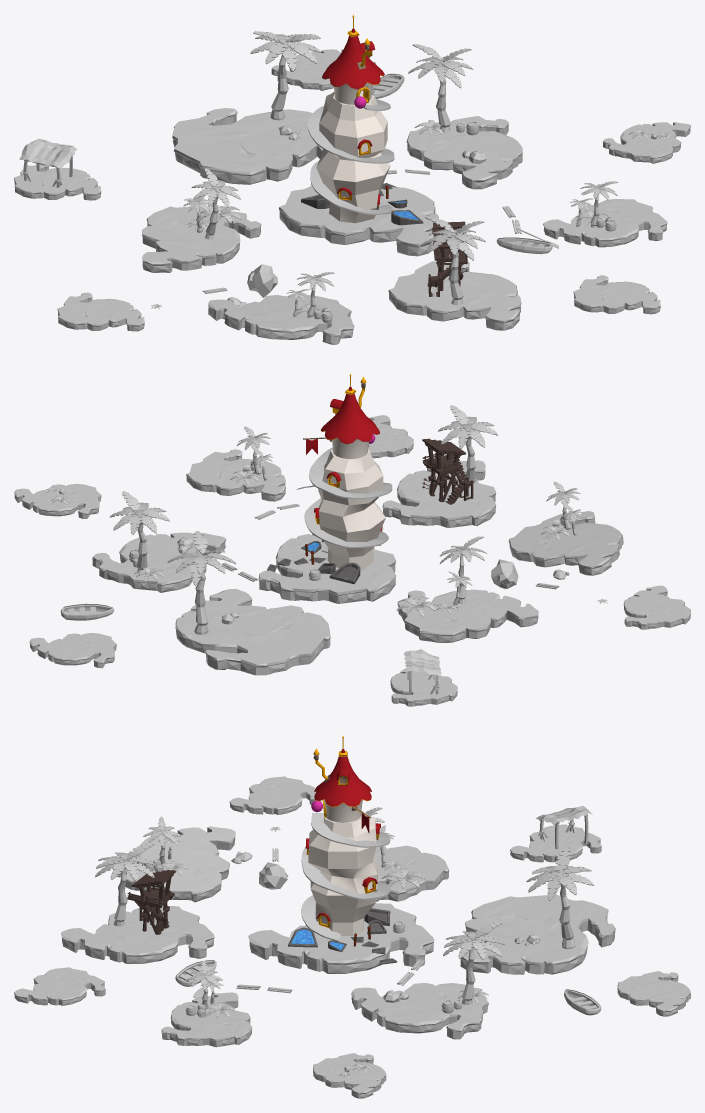
The model's file is towerlevel.fbx.
3 renders of one model, top to bottom at view 1: azimuth 30°, elevation 25°; view 2: azimuth 150°, elevation 25°; view 3: azimuth 270°, elevation 25°, orthographic. The views are drawn at different scales.
Visible parts, largest first — view 1: islands, pasted__Leaf.045, pCube1, Low_poly_Island_usdz:Mesh, Potion_Shop_Tower_usdz:Mesh, polySurface6, pasted__Hut, pasted__Oar.001, pasted__Sand.004, pasted__Bush.011, Cube.007_low, pasted__Barrel.006; view 2: islands, pasted__Leaf.045, pCube1, Low_poly_Island_usdz:Mesh, Potion_Shop_Tower_usdz:Mesh, Cube.007_low, polySurface6, pasted__Bush.011, pasted__Sand.004, pasted__Hut, pasted__Oar.001; view 3: islands, pasted__Leaf.045, pCube1, Low_poly_Island_usdz:Mesh, Potion_Shop_Tower_usdz:Mesh, polySurface6, Cube.007_low, pasted__Bush.011, pasted__Sand.004, pasted__Oar.001, pasted__Hut, pasted__Barrel.006.
Boxes of the visible parts, <box> form: islands: <box>14,49,690,344</box>; pasted__Leaf.045: <box>183,31,618,318</box>; pCube1: <box>316,90,390,223</box>; Low_poly_Island_usdz:Mesh: <box>388,261,521,330</box>; Potion_Shop_Tower_usdz:Mesh: <box>322,14,384,104</box>; polySurface6: <box>307,99,394,214</box>; pasted__Hut: <box>19,138,77,187</box>; pasted__Oar.001: <box>372,73,558,254</box>; pasted__Sand.004: <box>227,125,657,307</box>; pasted__Bush.011: <box>151,120,672,317</box>; Cube.007_low: <box>427,221,467,296</box>; pasted__Barrel.006: <box>313,121,616,322</box>; islands: <box>14,415,690,706</box>; pasted__Leaf.045: <box>110,405,582,634</box>; pCube1: <box>318,449,385,569</box>; Low_poly_Island_usdz:Mesh: <box>382,460,496,527</box>; Potion_Shop_Tower_usdz:Mesh: <box>303,373,380,458</box>; Cube.007_low: <box>422,438,473,504</box>; polySurface6: <box>304,447,392,553</box>; pasted__Bush.011: <box>46,470,607,617</box>; pasted__Sand.004: <box>59,489,569,624</box>; pasted__Hut: <box>403,649,441,694</box>; pasted__Oar.001: <box>60,485,314,620</box>; islands: <box>14,776,690,1098</box>; pasted__Leaf.045: <box>95,807,593,1010</box>; pCube1: <box>308,812,377,935</box>; Low_poly_Island_usdz:Mesh: <box>61,905,214,963</box>; Potion_Shop_Tower_usdz:Mesh: <box>313,735,371,832</box>; polySurface6: <box>301,813,390,941</box>; Cube.007_low: <box>127,870,175,934</box>; pasted__Bush.011: <box>161,827,488,1078</box>; pasted__Sand.004: <box>231,851,539,1072</box>; pasted__Oar.001: <box>175,960,601,1015</box>; pasted__Hut: <box>535,805,592,849</box>; pasted__Barrel.006: <box>143,859,462,1017</box>.
Size of the model in its own units: 540 by 171 by 488.
